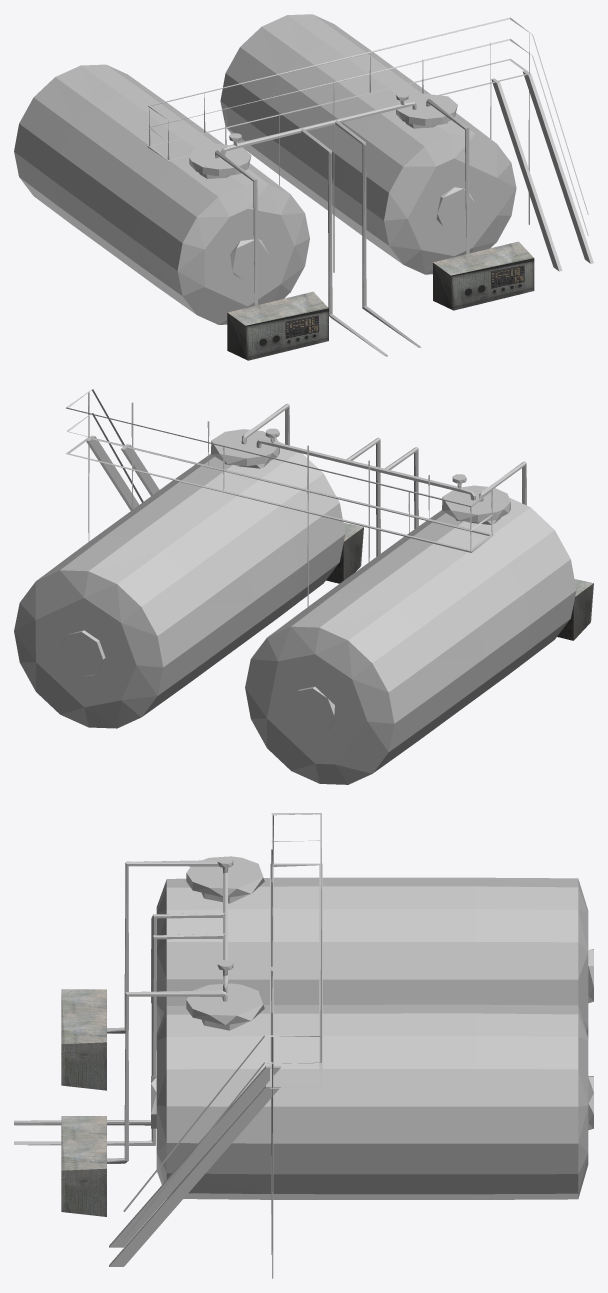
File: Environmet_5_LOD02.fbx
The picture shows the model from 3 angles, top to bottom: view 1: azimuth 30°, elevation 25°; view 2: azimuth 150°, elevation 25°; view 3: azimuth 270°, elevation 25°; orthographic projection. The views are drawn at different scales.
Visible parts, largest first — view 1: Environmet_5_LOD02; view 2: Environmet_5_LOD02; view 3: Environmet_5_LOD02.
Part boxes in pixels (bbox=[...]): Environmet_5_LOD02: bbox=[14, 14, 593, 360]; Environmet_5_LOD02: bbox=[14, 389, 593, 784]; Environmet_5_LOD02: bbox=[14, 813, 593, 1278].
Size of the model in its own units: 8.12 by 3.78 by 8.17.
